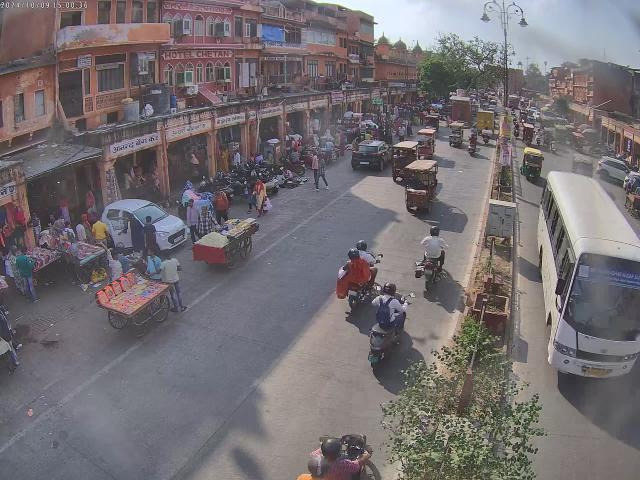auto: (404, 158, 440, 216), (388, 140, 418, 183), (520, 148, 544, 182), (416, 126, 438, 154), (521, 122, 535, 144)
bus: (537, 168, 640, 382)
car: (101, 196, 186, 253), (350, 140, 388, 172), (595, 156, 635, 184)
helmet: (318, 436, 342, 455), (380, 282, 398, 296), (354, 240, 369, 250), (428, 225, 440, 237), (346, 250, 359, 259)
license_plate: (586, 368, 606, 376)
motorbike-rider: (288, 434, 382, 480), (334, 240, 381, 316), (414, 224, 450, 296)
person: (18, 246, 38, 304), (310, 150, 328, 190), (8, 243, 22, 292), (186, 197, 200, 243), (144, 248, 164, 280), (253, 178, 270, 214), (74, 214, 94, 243), (214, 184, 229, 222)
scooty-rider: (366, 282, 410, 368), (448, 131, 464, 147), (466, 136, 479, 155)
vendor: (99, 274, 183, 336), (192, 211, 260, 273)
